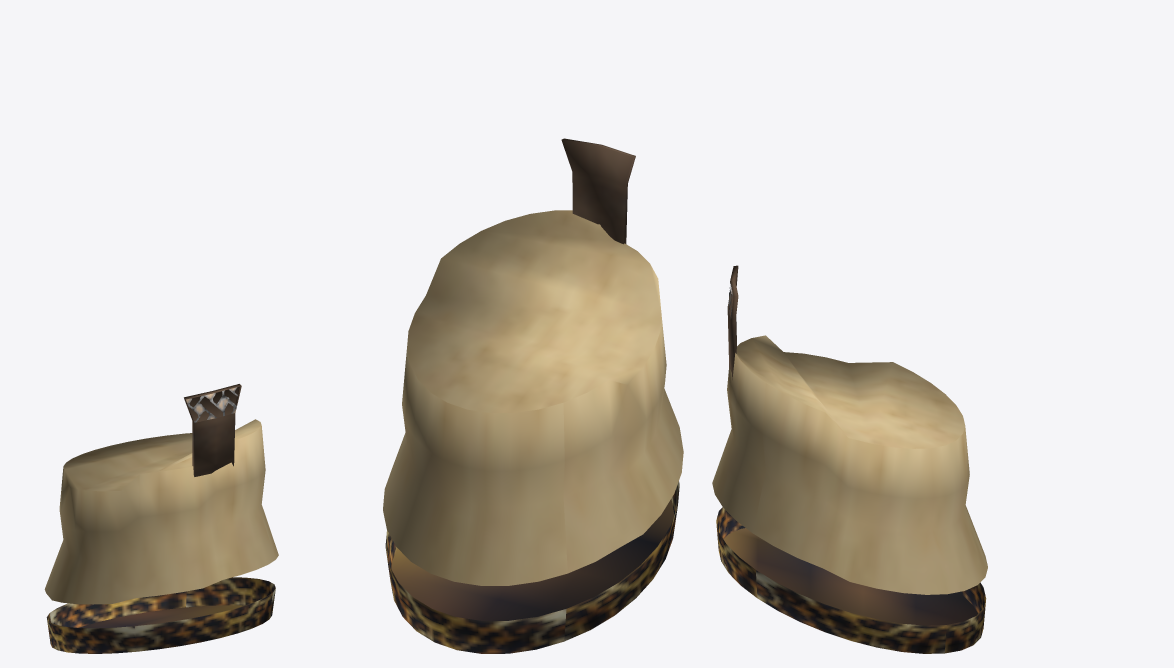
The model's file is maya_nobre_turb_1.dae.
3 views of the same model, side by side, from view 1: azimuth 30°, elevation 25°; view 2: azimuth 150°, elevation 25°; view 3: azimuth 270°, elevation 25° (orthographic). The views are drawn at different scales.
Visible parts, largest first — view 1: helmet_b_ 1; view 2: helmet_b_ 1; view 3: helmet_b_ 1.
Part boxes in pixels (x1,y1,x2,y2): helmet_b_ 1: [44, 384, 278, 653]; helmet_b_ 1: [383, 138, 683, 653]; helmet_b_ 1: [712, 265, 987, 653].
Bounding box in the file's own units: 0.5179 × 0.8987 × 1.35.
